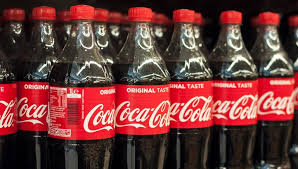Coca-Cola: (215, 14, 272, 168), (169, 11, 226, 164), (58, 15, 114, 168), (116, 11, 172, 164), (19, 11, 54, 164)
